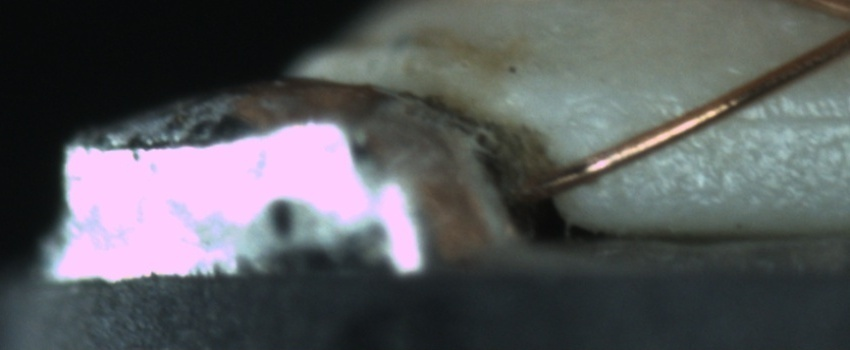DL: (696, 85, 847, 149)
